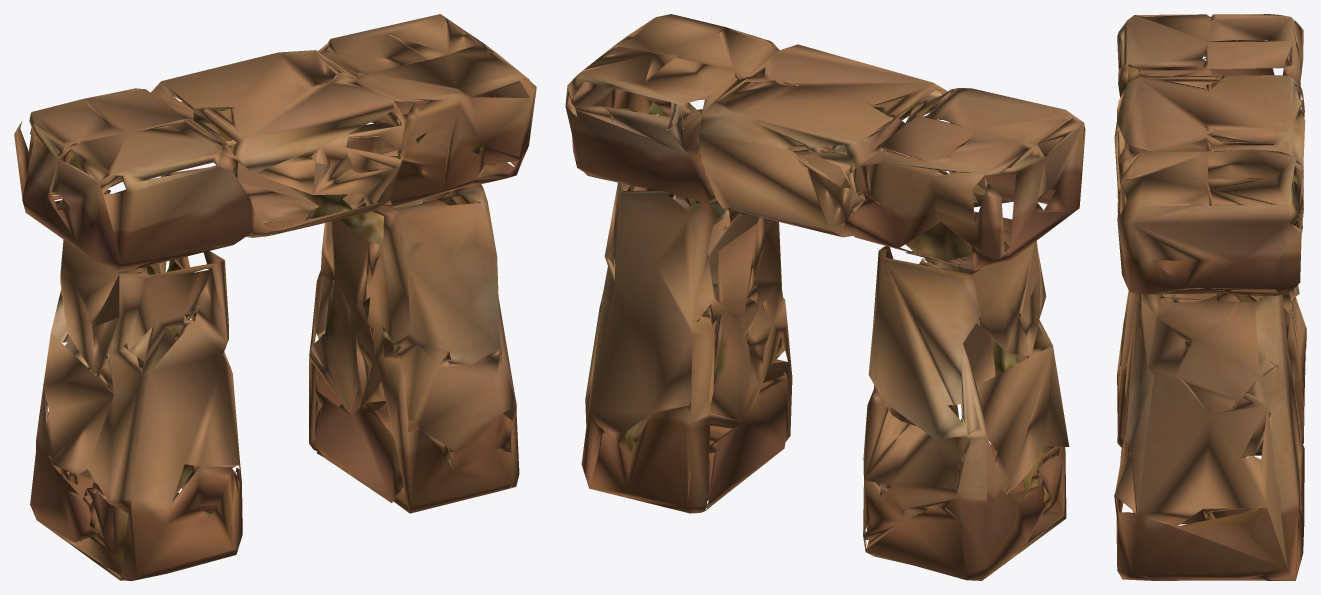
The model's file is lg-trilithon.glb.
The picture shows the model from 3 angles, left to right: view 1: azimuth 30°, elevation 25°; view 2: azimuth 150°, elevation 25°; view 3: azimuth 270°, elevation 25°; orthographic projection. The views are drawn at different scales.
Visible parts, largest first — view 1: geometry_0; view 2: geometry_0; view 3: geometry_0.
Boxes of the visible parts, x1,y1,x2,y2 form: geometry_0: (14, 14, 536, 580); geometry_0: (565, 14, 1085, 580); geometry_0: (1114, 14, 1306, 580).
Bounding box in the file's own units: 1 × 0.89 × 0.4037.
1 material, 1 textured.
